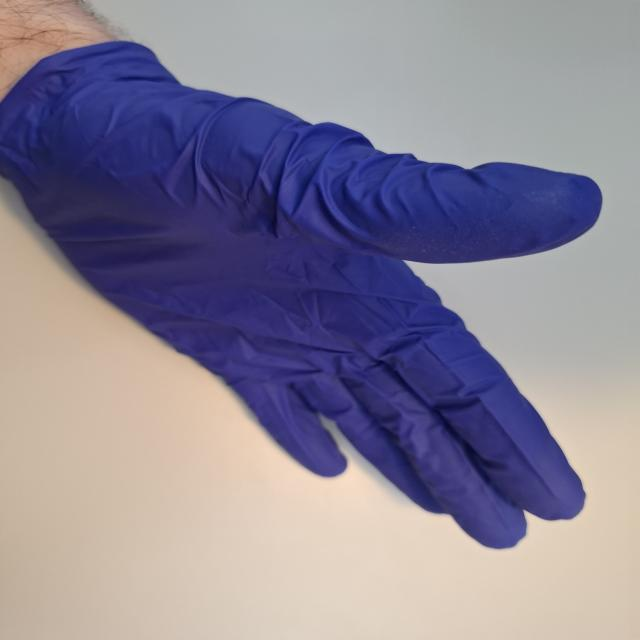glove_on: (0, 38, 606, 552)
